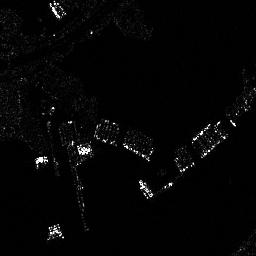ship: (136, 178, 154, 200)
